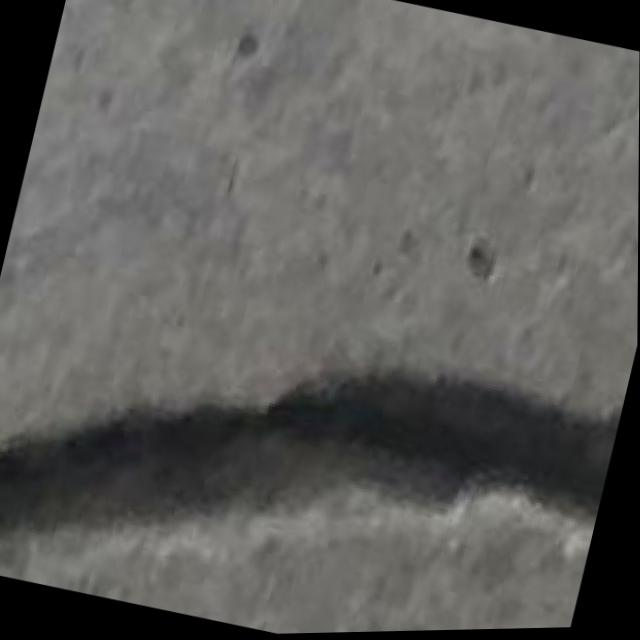Crack: (0, 244, 629, 640)
